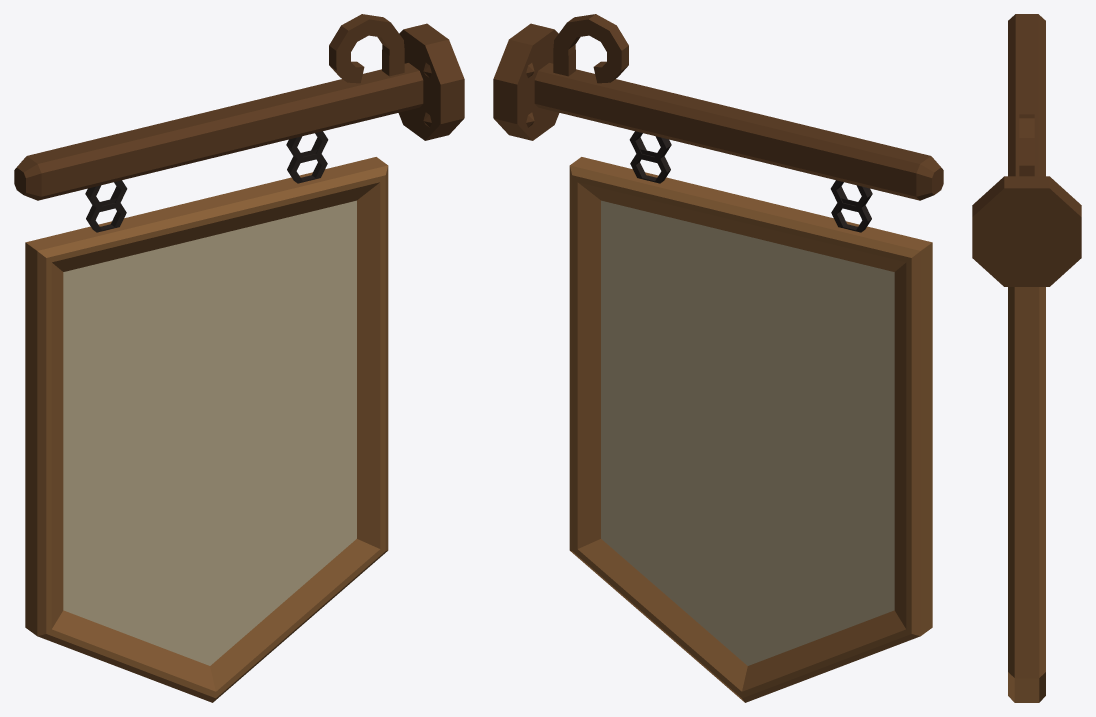
File: hanging-signboard-c10e01.glb
3 renders of one model, left to right at view 1: azimuth 30°, elevation 25°; view 2: azimuth 150°, elevation 25°; view 3: azimuth 270°, elevation 25°, orthographic. The views are drawn at different scales.
Parts seen in each view (by area): view 1: signboard, bracket; view 2: signboard, bracket; view 3: bracket, signboard.
Boxes of the visible parts, bbox=[...] form: signboard: bbox=[25, 149, 388, 702]; bracket: bbox=[14, 14, 464, 211]; signboard: bbox=[569, 149, 932, 702]; bracket: bbox=[493, 14, 943, 211]; bracket: bbox=[972, 14, 1081, 286]; signboard: bbox=[1008, 287, 1045, 702].
Size of the model in its own units: 1.31 by 1.93 by 0.2864.
